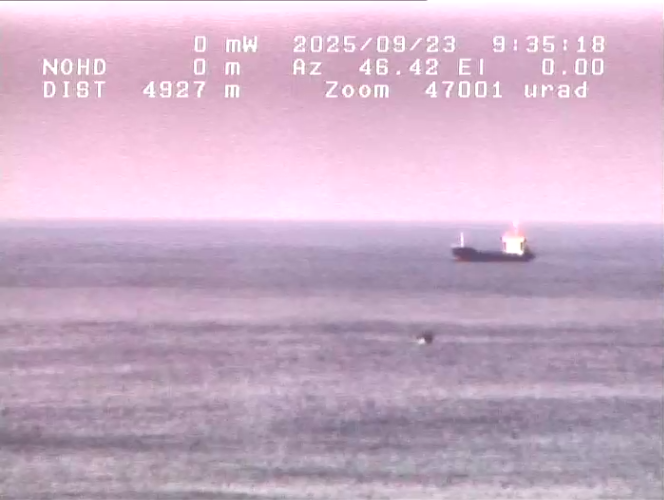TANKER: (445, 217, 545, 270)
TUGS: (407, 321, 440, 349)
